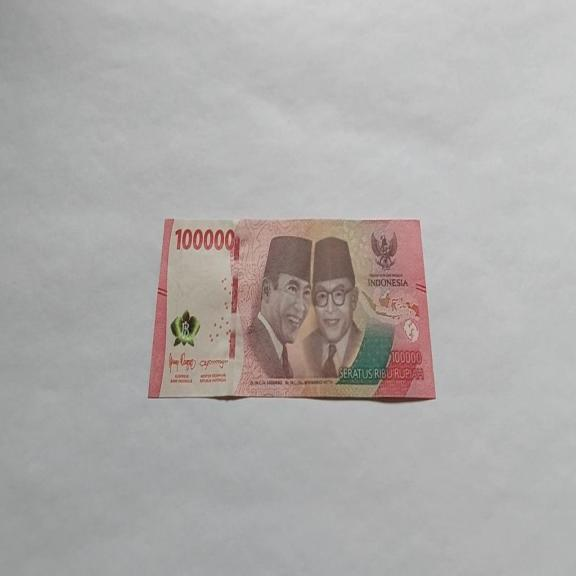Kertas: (147, 215, 437, 402), (174, 225, 236, 253)
